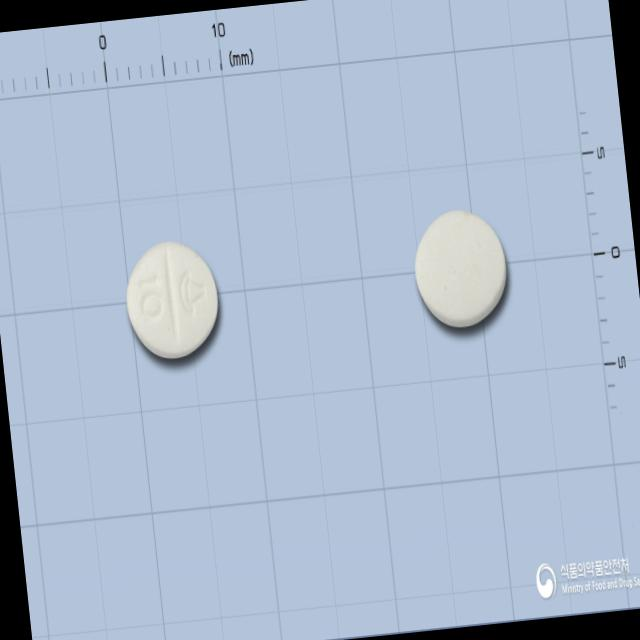CLARITYNE: (113, 224, 230, 376)
